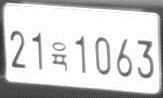0: (94, 36, 111, 75)
1: (73, 34, 87, 74), (31, 31, 44, 71)
2: (9, 30, 27, 68)
3: (136, 39, 154, 79)
6: (115, 37, 132, 77)
육: (50, 41, 69, 72)
